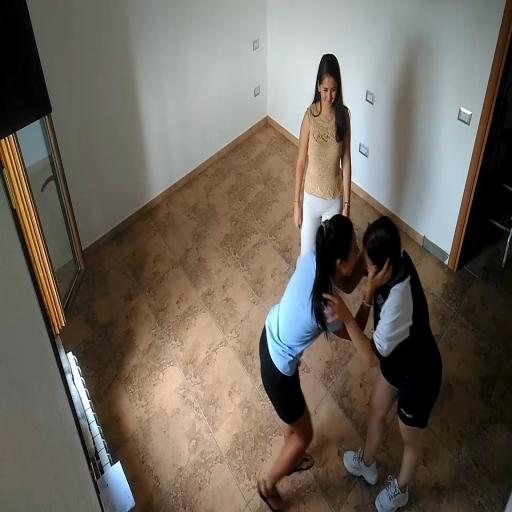nao-violencia: (245, 186, 454, 509)
